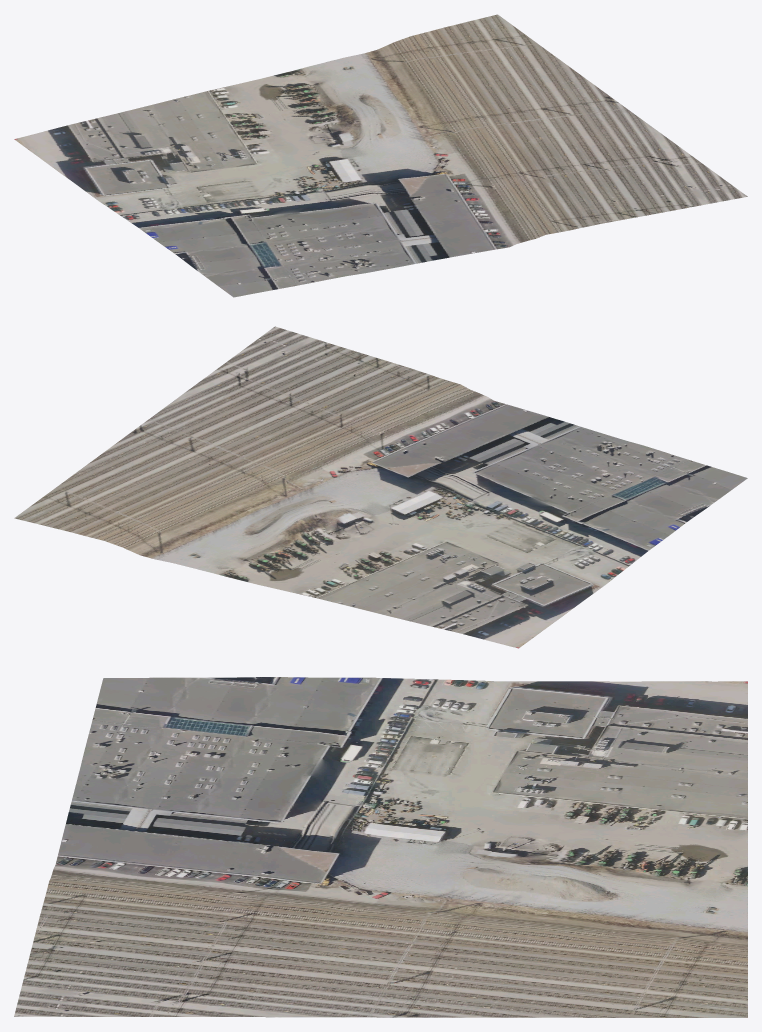
File: CM_Terrain_24487592_6818770.fbx
3 renders of one model, top to bottom at view 1: azimuth 30°, elevation 25°; view 2: azimuth 150°, elevation 25°; view 3: azimuth 270°, elevation 25°, orthographic. The views are drawn at different scales.
Visible parts, largest first — view 1: CM_Terrain_24487592_6818770_LOD0; view 2: CM_Terrain_24487592_6818770_LOD0; view 3: CM_Terrain_24487592_6818770_LOD0.
Part boxes in pixels (x1=…): CM_Terrain_24487592_6818770_LOD0: x1=14, y1=14, x2=747, y2=297; CM_Terrain_24487592_6818770_LOD0: x1=14, y1=326, x2=747, y2=648; CM_Terrain_24487592_6818770_LOD0: x1=14, y1=677, x2=747, y2=1017.
Size of what is drawn, in the model's own units: 205 by 3.92 by 183.
